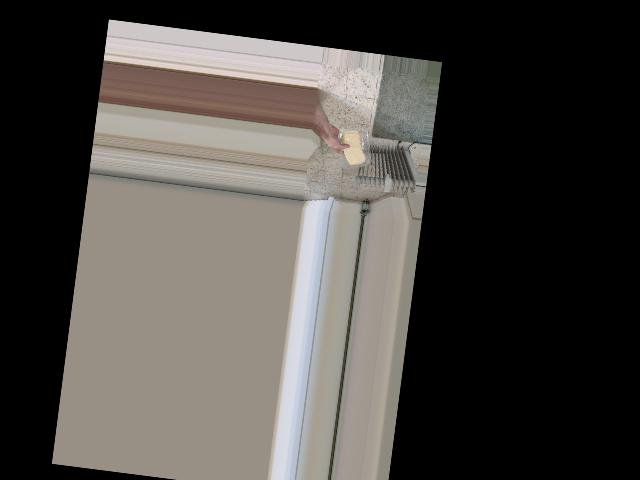cheese: (336, 126, 370, 170)
